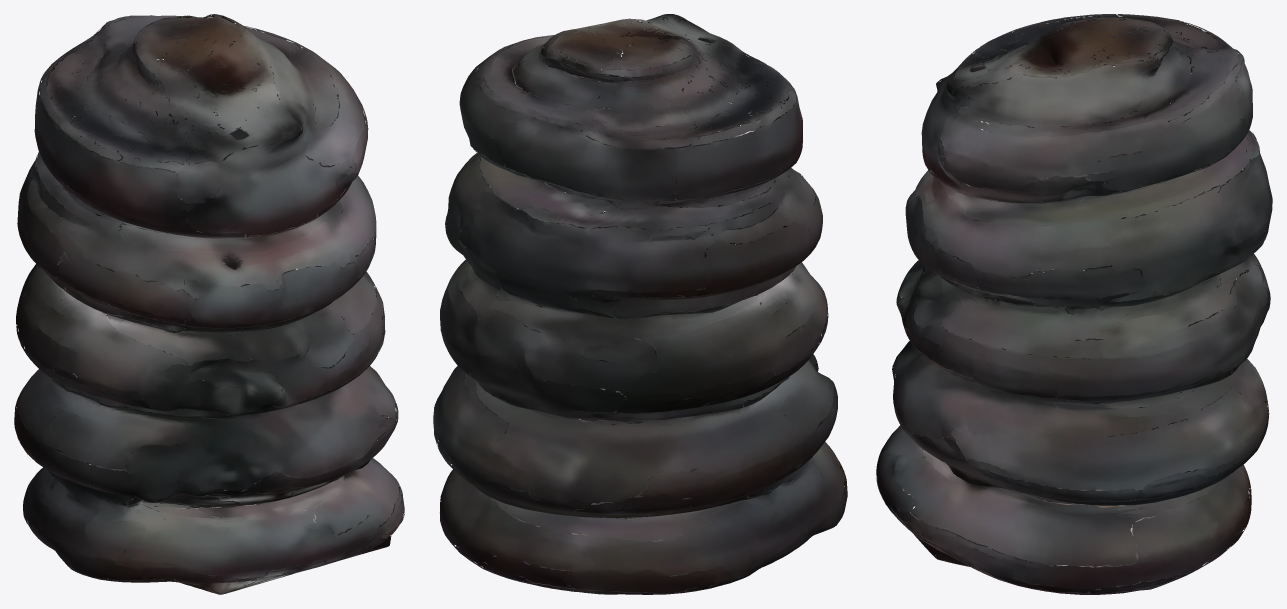
Rendered from mygeeto-disc-tower.hq.glb.
3 renders of one model, left to right at view 1: azimuth 30°, elevation 25°; view 2: azimuth 150°, elevation 25°; view 3: azimuth 270°, elevation 25°, orthographic. The views are drawn at different scales.
Parts seen in each view (by area): view 1: low; view 2: low; view 3: low.
Boxes of the visible parts, x1,y1,x2,y2 form: low: (14, 14, 404, 594); low: (433, 14, 847, 594); low: (876, 14, 1272, 594).
Bounding box in the file's own units: 0.5993 × 0.8347 × 0.6133.
Materials: 1 (1 with a texture image).
